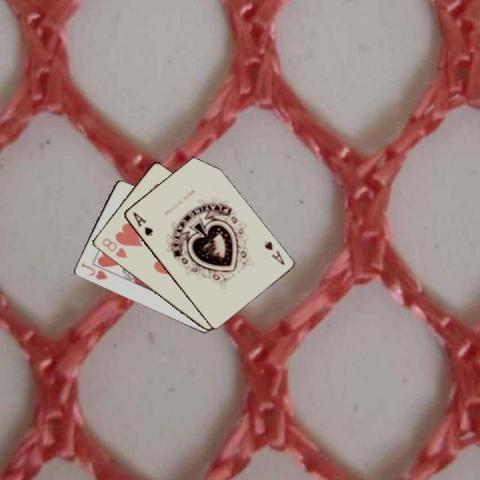8h: (98, 235, 128, 259)
As: (261, 238, 286, 267), (129, 210, 154, 238)
Jh: (77, 260, 109, 281)
